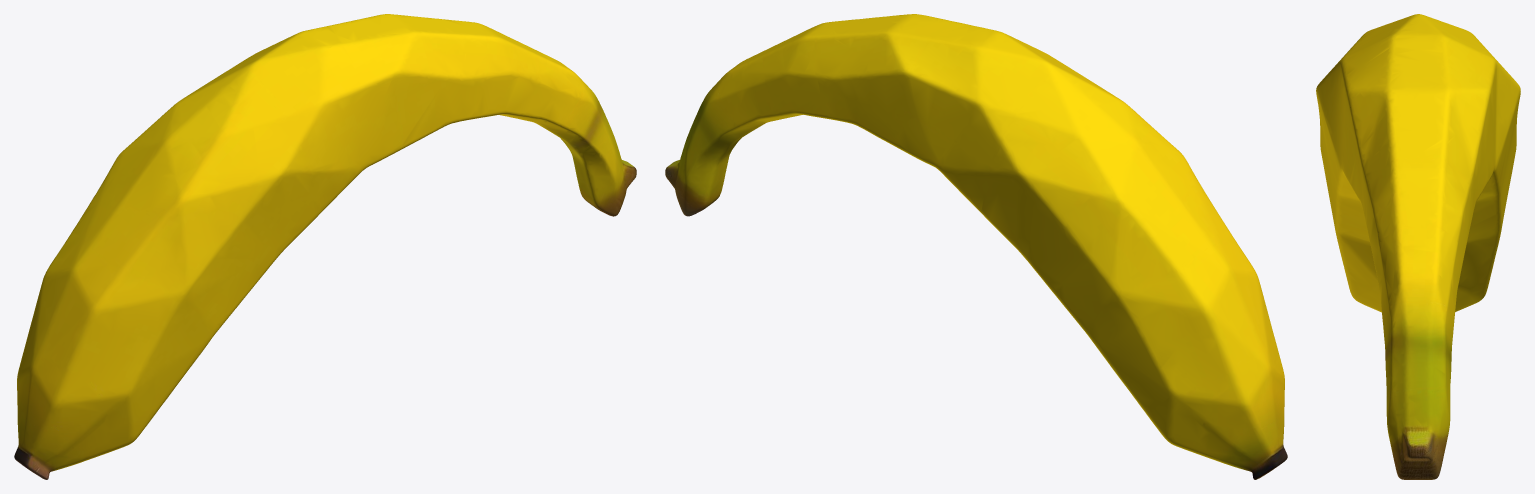
File: banana2.glb
3 renders of one model, left to right at view 1: azimuth 30°, elevation 25°; view 2: azimuth 150°, elevation 25°; view 3: azimuth 270°, elevation 25°, orthographic. The views are drawn at different scales.
Bounding box in the file's own units: 1.9 × 1.1 × 0.4788.
Materials: 1 (1 with a texture image).
